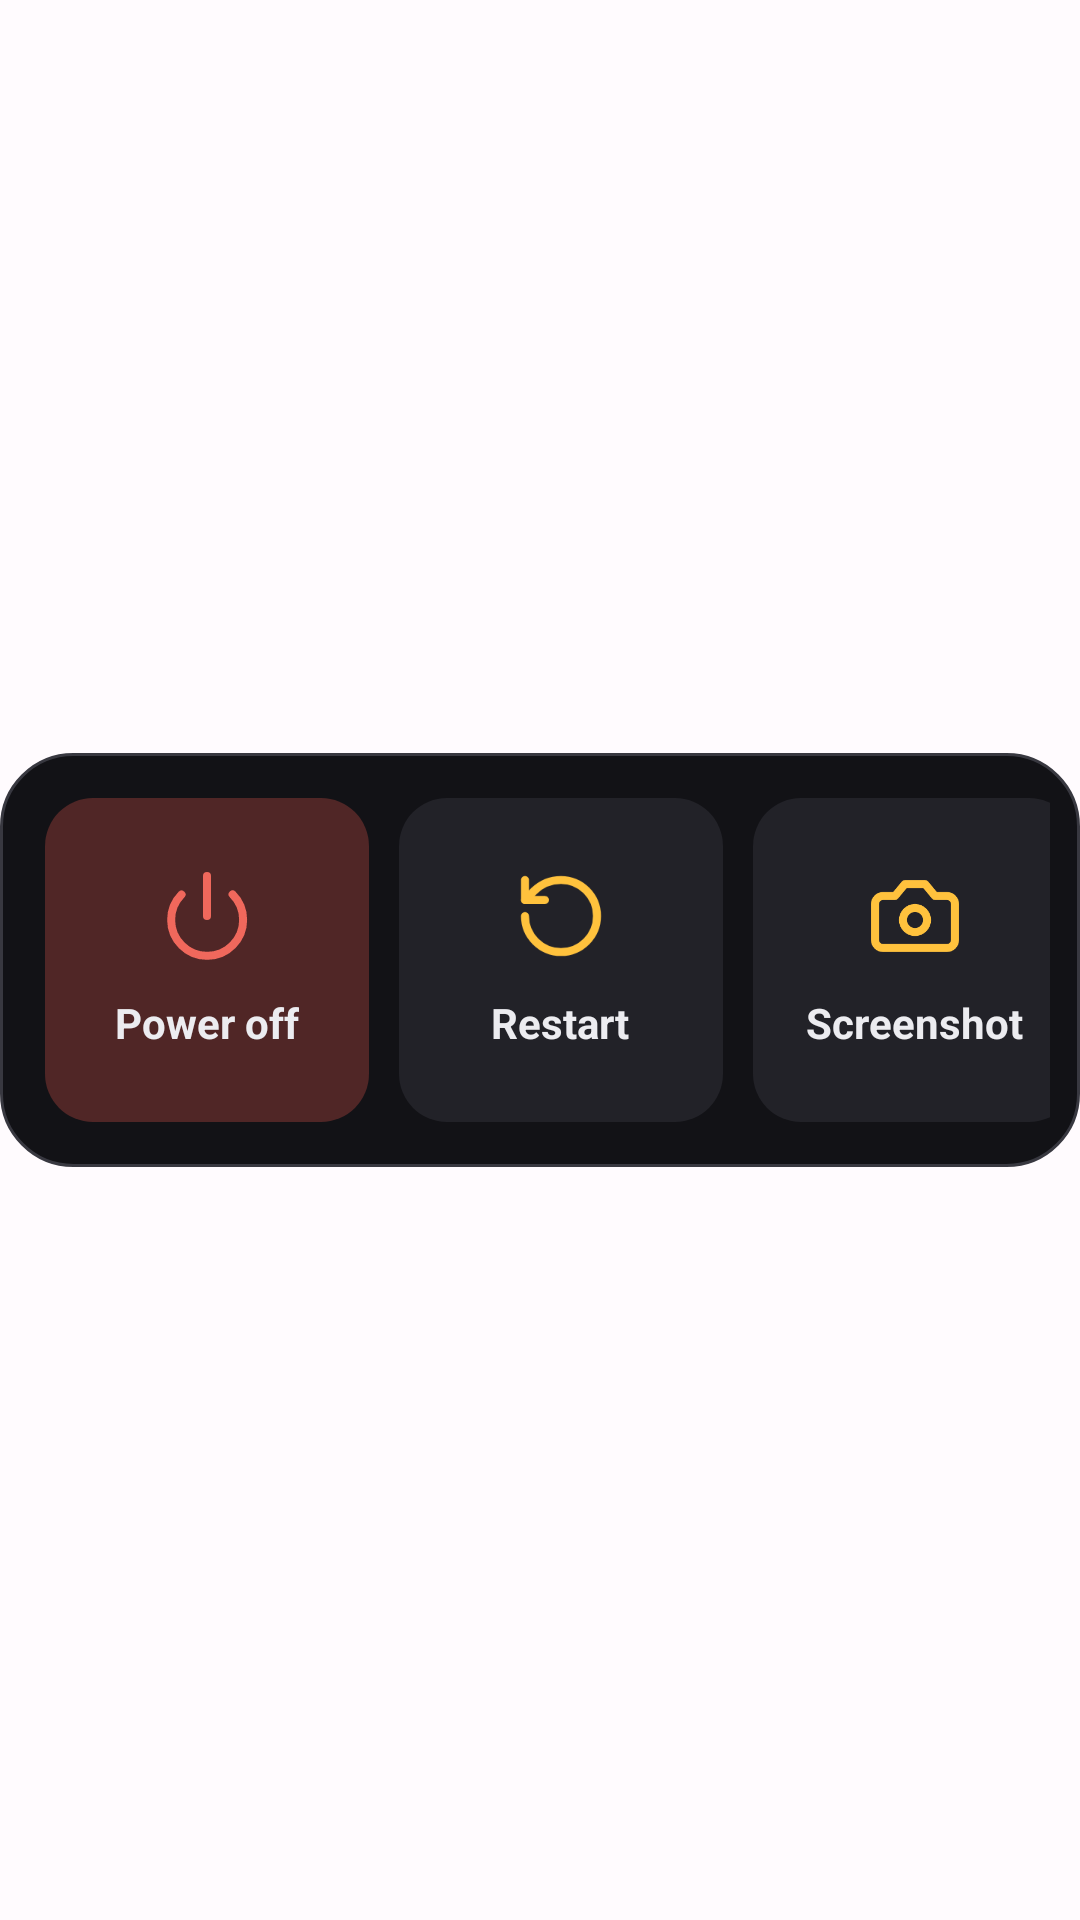

Icons on this 1080 × 1920 Android screen, each with the point to tap as point (x, y):
camera: point (915, 916)
